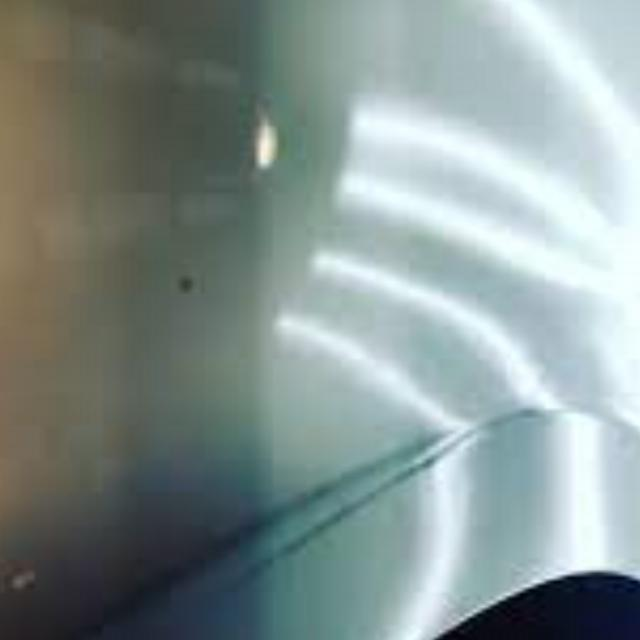dents: (432, 402, 608, 580)
